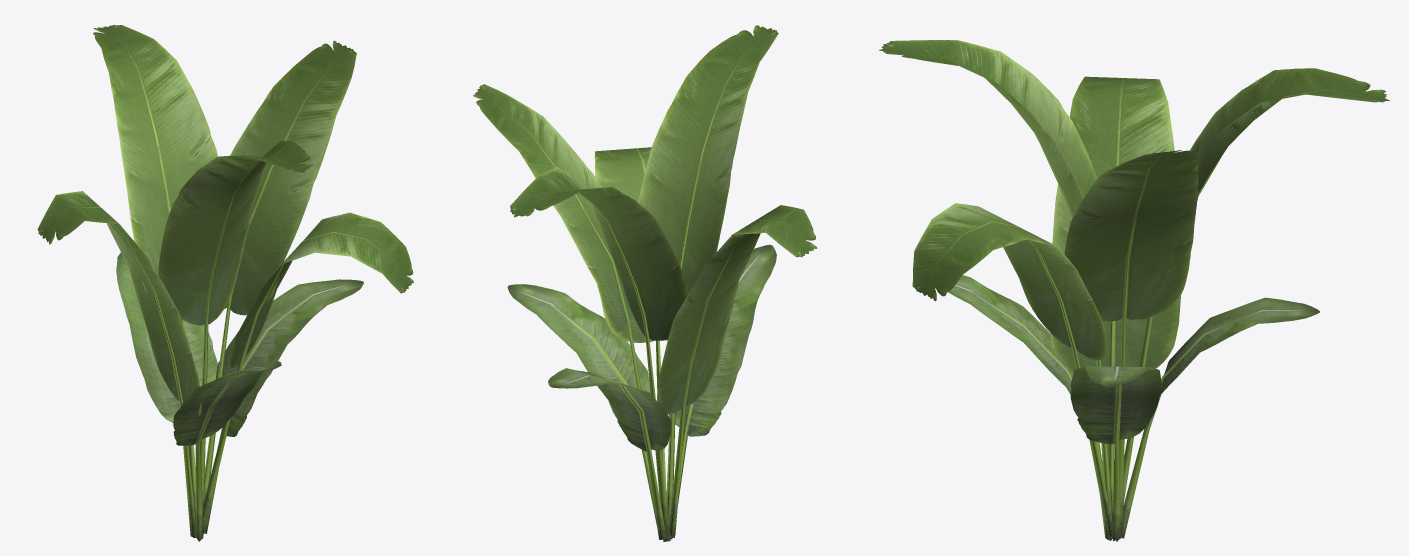
Rendered from plant19.FBX.
3 views of the same model, side by side, from view 1: azimuth 30°, elevation 25°; view 2: azimuth 150°, elevation 25°; view 3: azimuth 270°, elevation 25° (orthographic). The views are drawn at different scales.
Parts seen in each view (by area): view 1: plant19; view 2: plant19; view 3: plant19.
Part boxes in pixels (x1=…): plant19: x1=37, y1=25, x2=413, y2=541; plant19: x1=473, y1=25, x2=817, y2=541; plant19: x1=879, y1=40, x2=1389, y2=541.
Bounding box in the file's own units: 42.24 × 50.63 × 53.82.
